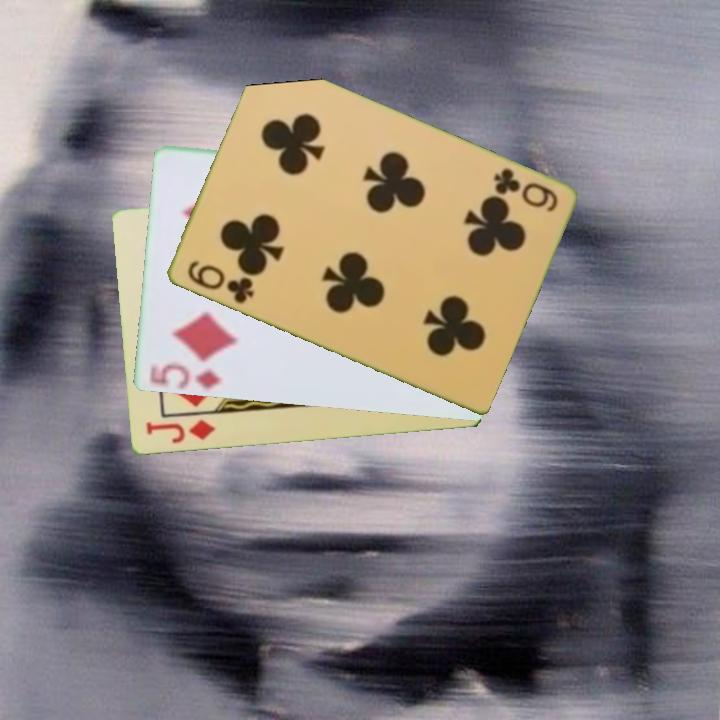5d: (146, 361, 225, 394)
6c: (183, 257, 257, 307), (489, 165, 561, 216)
Jd: (142, 416, 217, 447)
